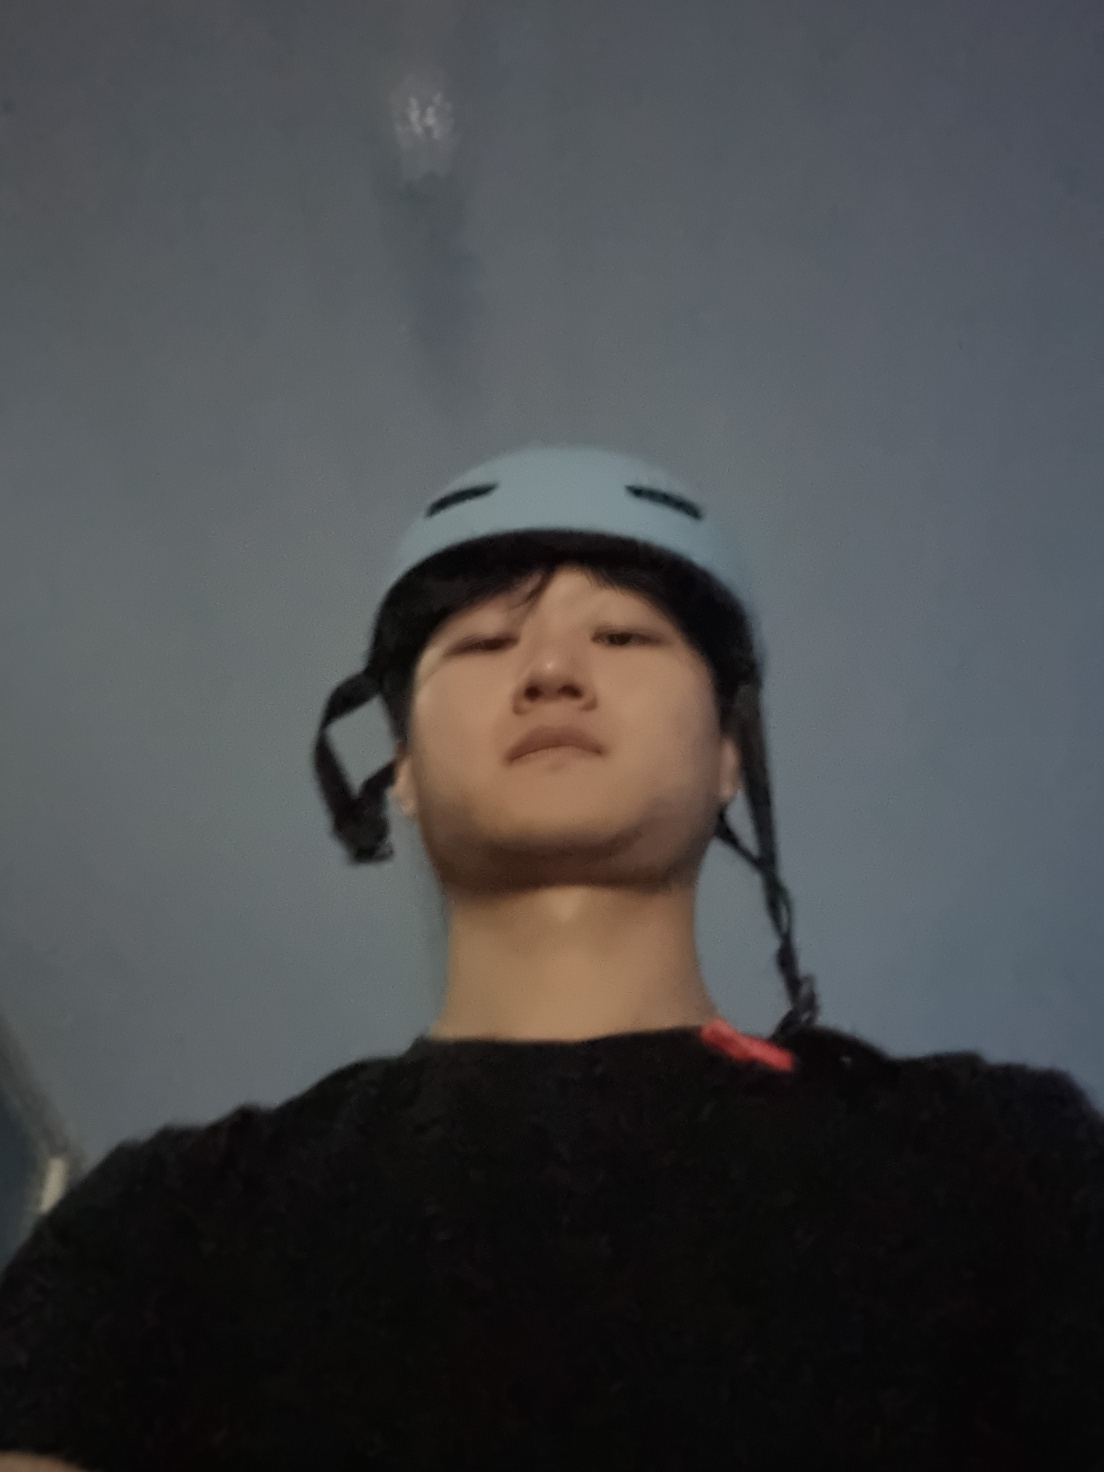Helmet: (310, 410, 826, 949)
